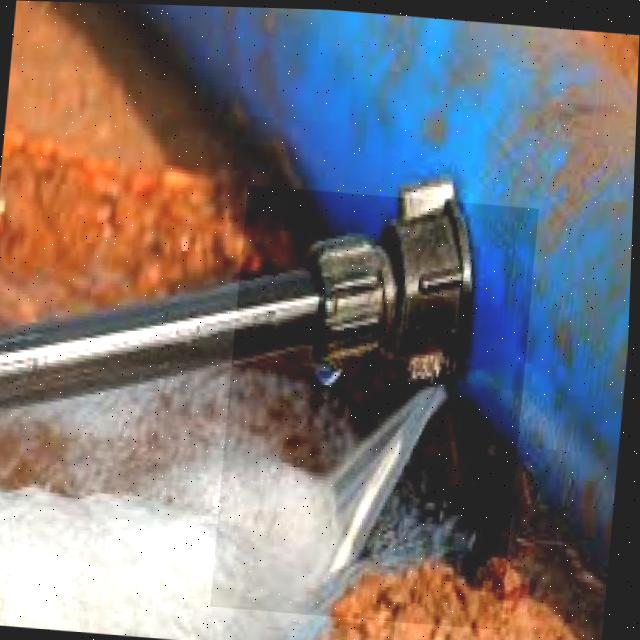corrosion: (342, 307, 456, 528), (465, 506, 487, 520)
